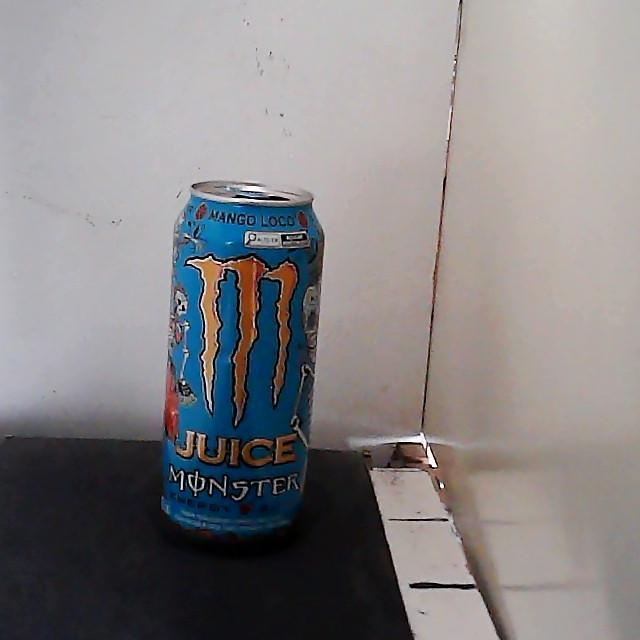metal: (161, 180, 324, 546)
